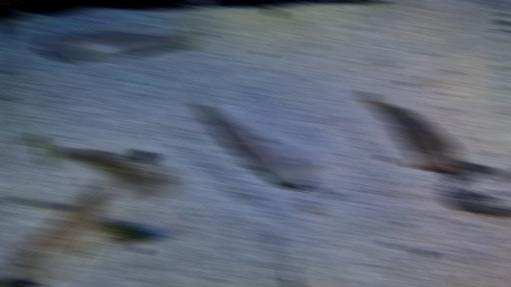Fish: (16, 131, 183, 203), (9, 178, 120, 284), (197, 95, 316, 185), (362, 90, 463, 171), (39, 29, 196, 63), (285, 266, 290, 286)
